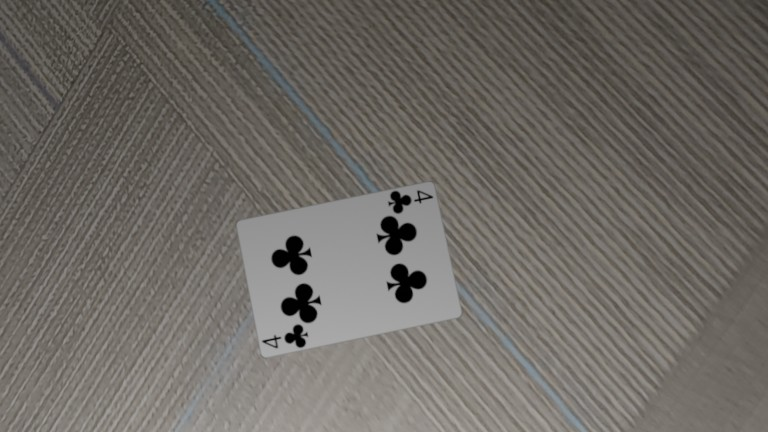4_of_clubs: (104, 128, 125, 142), (154, 73, 174, 86)
